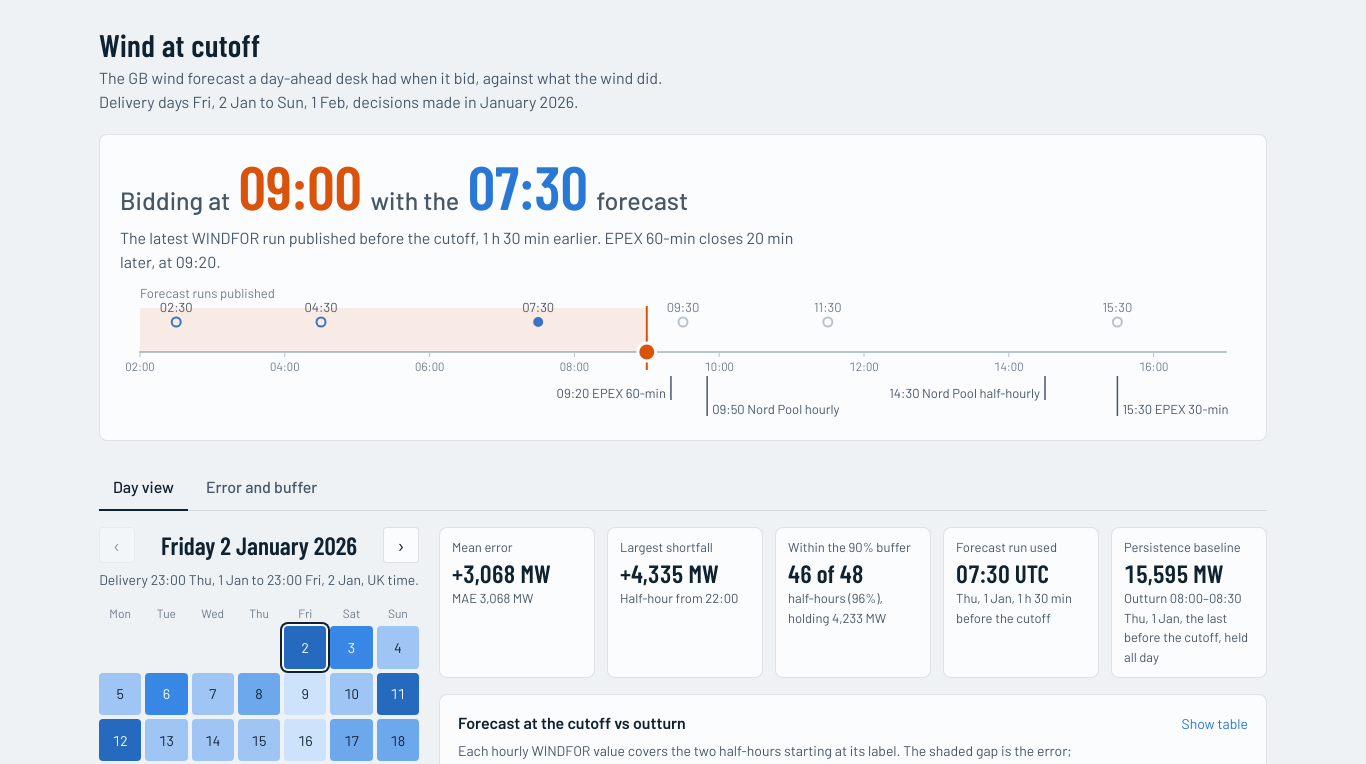
Test: day view › lists every half-hour of the 23:00-23:00 delivery day in the table view
Click the button "Show table". click: (1215, 724)
box: left=1182, top=711, right=1248, bottom=736
(page scrolled)
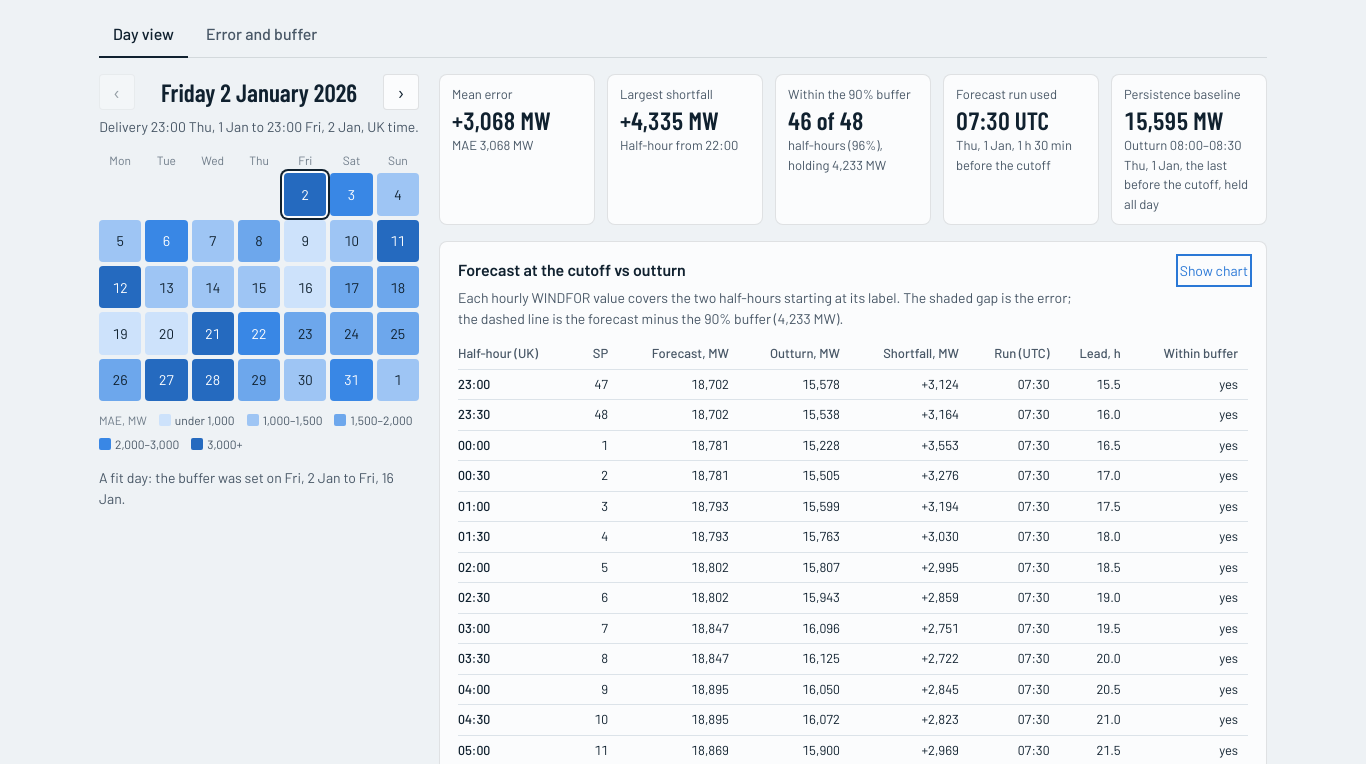
Expected: the column heading "23:00" is shown, left=458, top=369, right=583, bottom=400
Now the cell "47" is shown, box left=583, top=369, right=618, bottom=400
